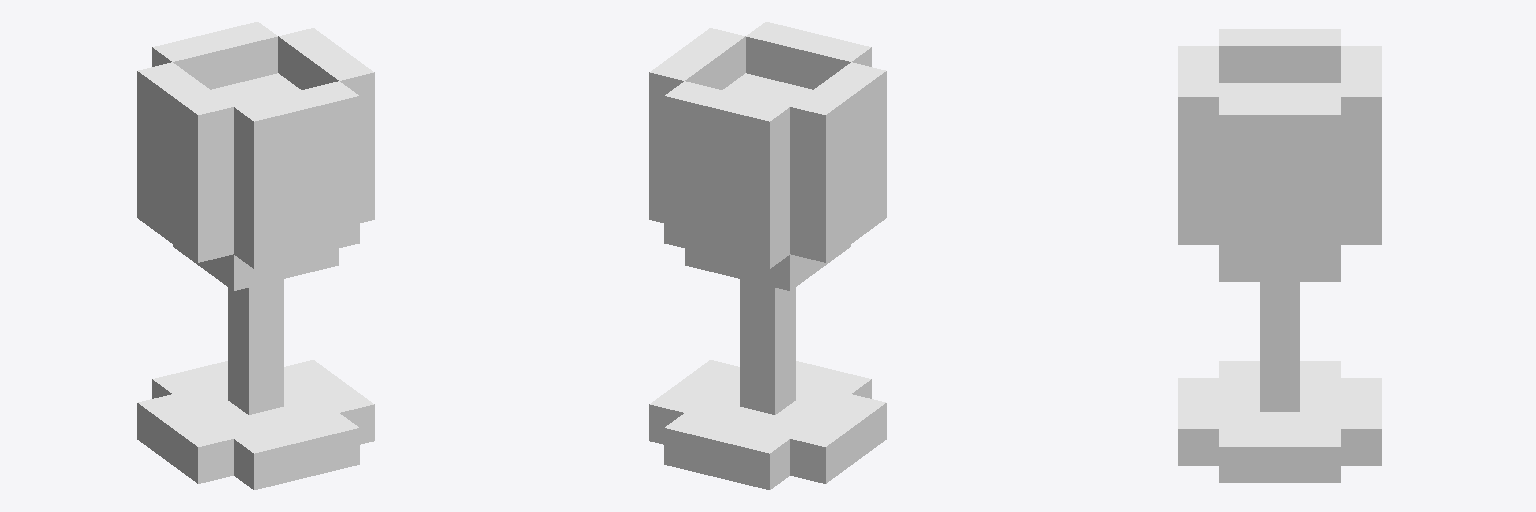
The model's file is Wine.obj.
3 renders of one model, left to right at view 1: azimuth 30°, elevation 25°; view 2: azimuth 150°, elevation 25°; view 3: azimuth 270°, elevation 25°, orthographic.
Size of the model in its own units: 5 by 10 by 5.